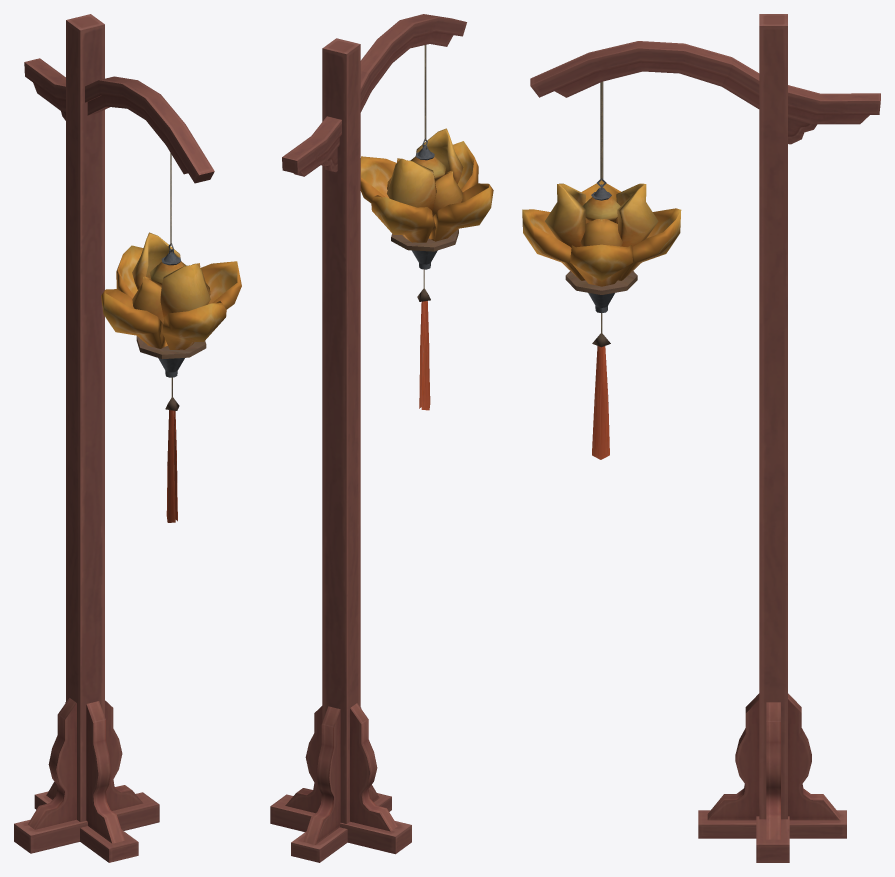
The model's file is Homeworld_Interior_Ly_Lamp_Lamp_07_Vo.fbx.
3 renders of one model, left to right at view 1: azimuth 30°, elevation 25°; view 2: azimuth 150°, elevation 25°; view 3: azimuth 270°, elevation 25°, orthographic. The views are drawn at different scales.
Parts seen in each view (by area): view 1: Homeworld_Interior_Ly_Lamp_Lamp_07_Vo; view 2: Homeworld_Interior_Ly_Lamp_Lamp_07_Vo; view 3: Homeworld_Interior_Ly_Lamp_Lamp_07_Vo.
Part boxes in pixels (<box>): Homeworld_Interior_Ly_Lamp_Lamp_07_Vo: <box>14,14,241,862</box>; Homeworld_Interior_Ly_Lamp_Lamp_07_Vo: <box>270,14,493,862</box>; Homeworld_Interior_Ly_Lamp_Lamp_07_Vo: <box>522,14,880,862</box>.
Size of the model in its own units: 0.5349 by 3.04 by 1.22.
